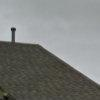Chimney: (6, 22, 23, 47)
